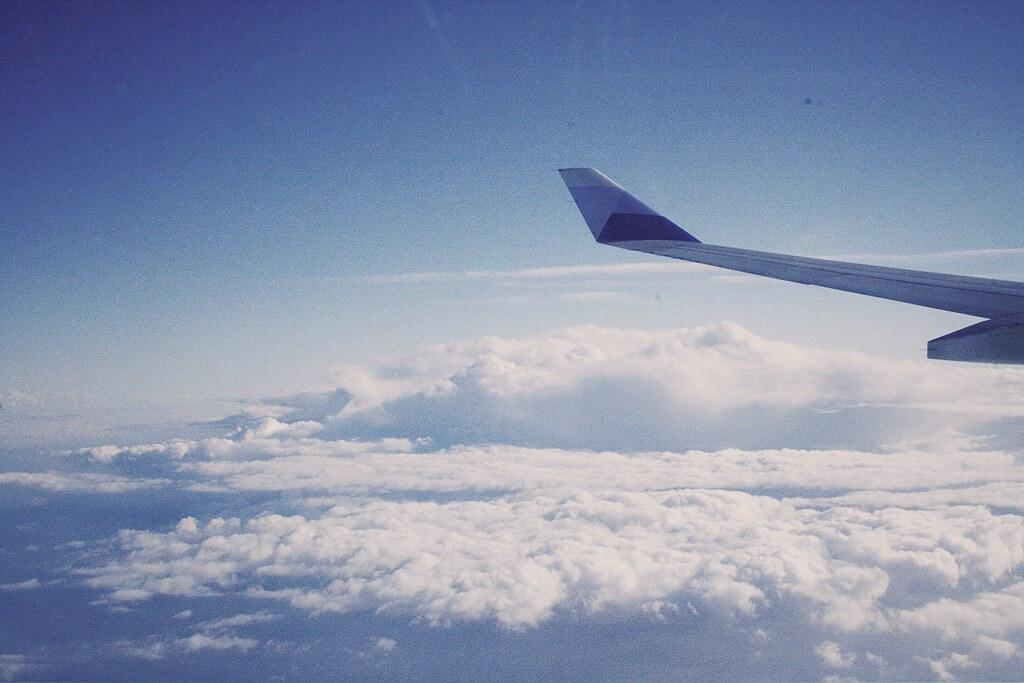plane: (557, 165, 1023, 366)
